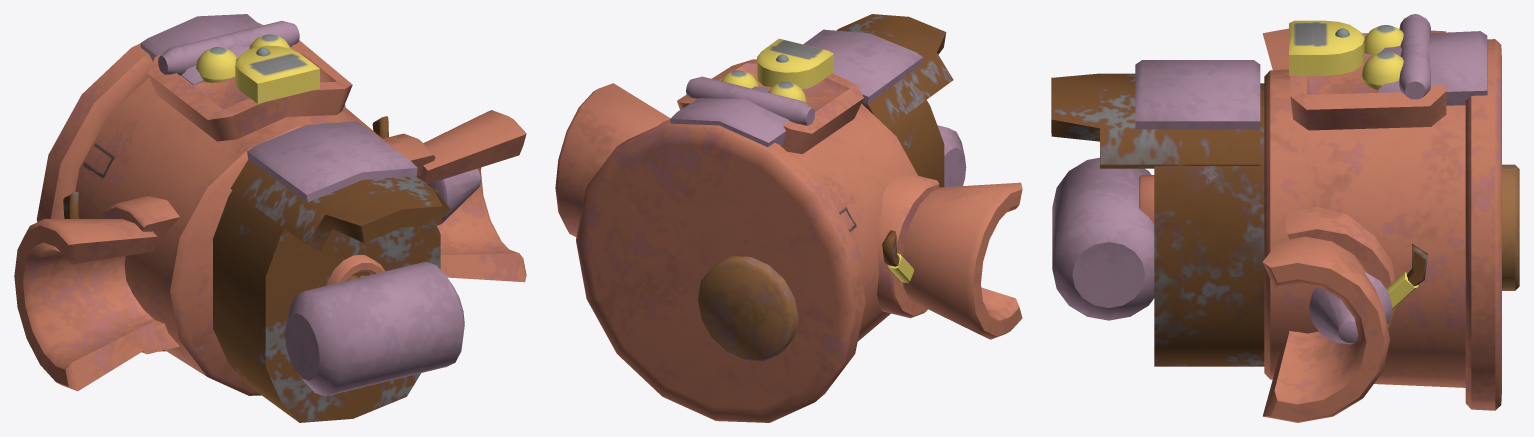
The model's file is aaaa.obj.
3 renders of one model, left to right at view 1: azimuth 30°, elevation 25°; view 2: azimuth 150°, elevation 25°; view 3: azimuth 270°, elevation 25°, orthographic. The views are drawn at different scales.
Visible parts, largest first — view 1: polySurface108_Untitled.041, polySurface29_Untitled.043, polySurface100_Untitled.040, polySurface90_Untitled.017; view 2: polySurface108_Untitled.041, polySurface29_Untitled.043, polySurface120_Untitled.023; view 3: polySurface108_Untitled.041, polySurface29_Untitled.043, polySurface100_Untitled.040, polySurface121_Untitled.034, polySurface90_Untitled.017.
Boxes of the visible parts, box(x1,y1,x2,y2) form: polySurface108_Untitled.041: box(14, 21, 526, 422); polySurface29_Untitled.043: box(140, 14, 260, 85); polySurface100_Untitled.040: box(428, 168, 480, 225); polySurface90_Untitled.017: box(326, 255, 384, 285); polySurface108_Untitled.041: box(555, 14, 1022, 422); polySurface29_Untitled.043: box(670, 86, 789, 146); polySurface120_Untitled.023: box(882, 230, 913, 283); polySurface108_Untitled.041: box(1051, 14, 1519, 422); polySurface29_Untitled.043: box(1378, 31, 1487, 105); polySurface100_Untitled.040: box(1309, 272, 1392, 344); polySurface121_Untitled.034: box(1386, 243, 1427, 310); polySurface90_Untitled.017: box(1139, 175, 1154, 224).
Bounding box in the file's own units: 3.45 × 2.5 × 2.91.
1 material, 1 textured.
